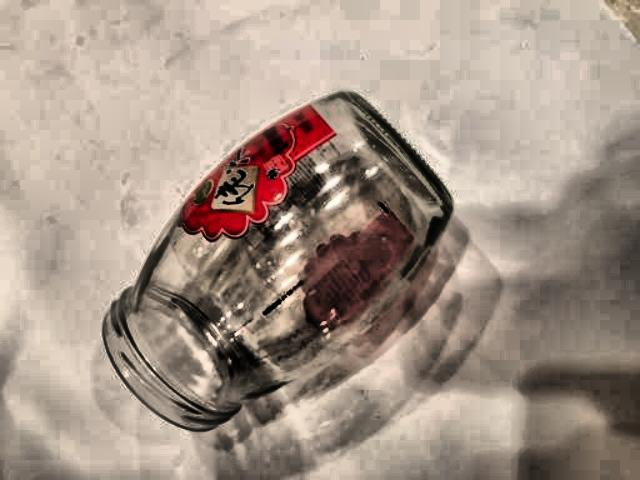Almennt: (72, 78, 483, 442)
